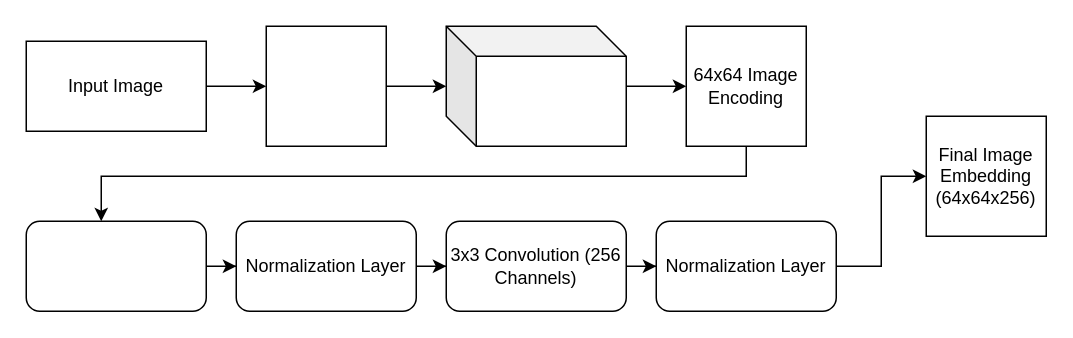
The diagram is 1073 pixels wide and 338 high, and some of its shapes have lost their labels. Here are the shapes that lost their labels. From the top down, the centre of each, then its label:
At [325,85]: "Resized to 1024x1024".
At [535,85]: "ViT-H/16 Vision Transformer".
At [115,265]: "1x1 Convolution to reduce Channels to 256".
